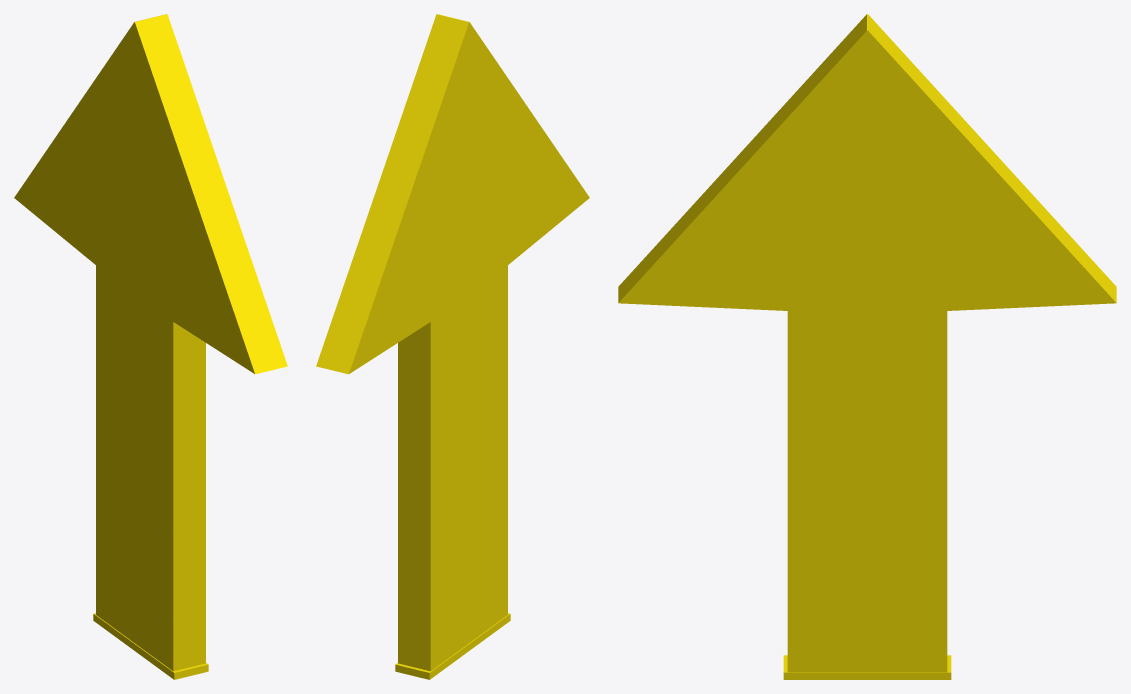
File: Direction Indicator.fbx
3 renders of one model, left to right at view 1: azimuth 30°, elevation 25°; view 2: azimuth 150°, elevation 25°; view 3: azimuth 270°, elevation 25°, orthographic. The views are drawn at different scales.
Visible parts, largest first — view 1: building_001; view 2: building_001; view 3: building_001.
Part boxes in pixels (left/top/right/bottom): building_001: left=14, top=14, right=287, bottom=679; building_001: left=316, top=14, right=589, bottom=679; building_001: left=618, top=14, right=1116, bottom=679.
Size of the model in its own units: 103 by 1796 by 1250.
